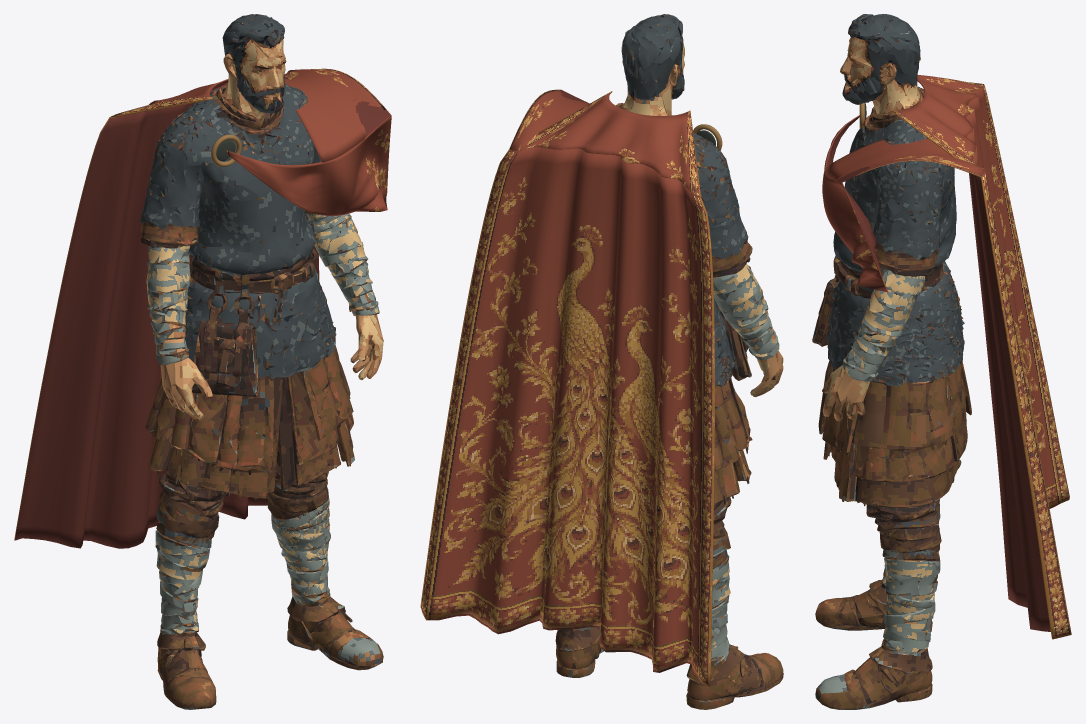
The model's file is mercenary-restored.glb.
3 views of the same model, side by side, from view 1: azimuth 30°, elevation 25°; view 2: azimuth 150°, elevation 25°; view 3: azimuth 270°, elevation 25° (orthographic).
Visible parts, largest first — view 1: mercenary-restored runtime mesh; view 2: mercenary-restored runtime mesh; view 3: mercenary-restored runtime mesh.
Part boxes in pixels (bbox=[...]): mercenary-restored runtime mesh: bbox=[14, 14, 391, 709]; mercenary-restored runtime mesh: bbox=[420, 14, 783, 709]; mercenary-restored runtime mesh: bbox=[812, 14, 1071, 709].
Size of the model in its own units: 0.9693 by 2.03 by 0.7416.
5 materials, 2 textured.
